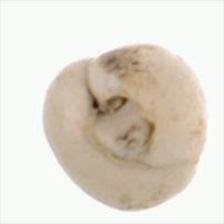L3: (82, 91, 155, 169)
L4: (42, 43, 207, 211)
